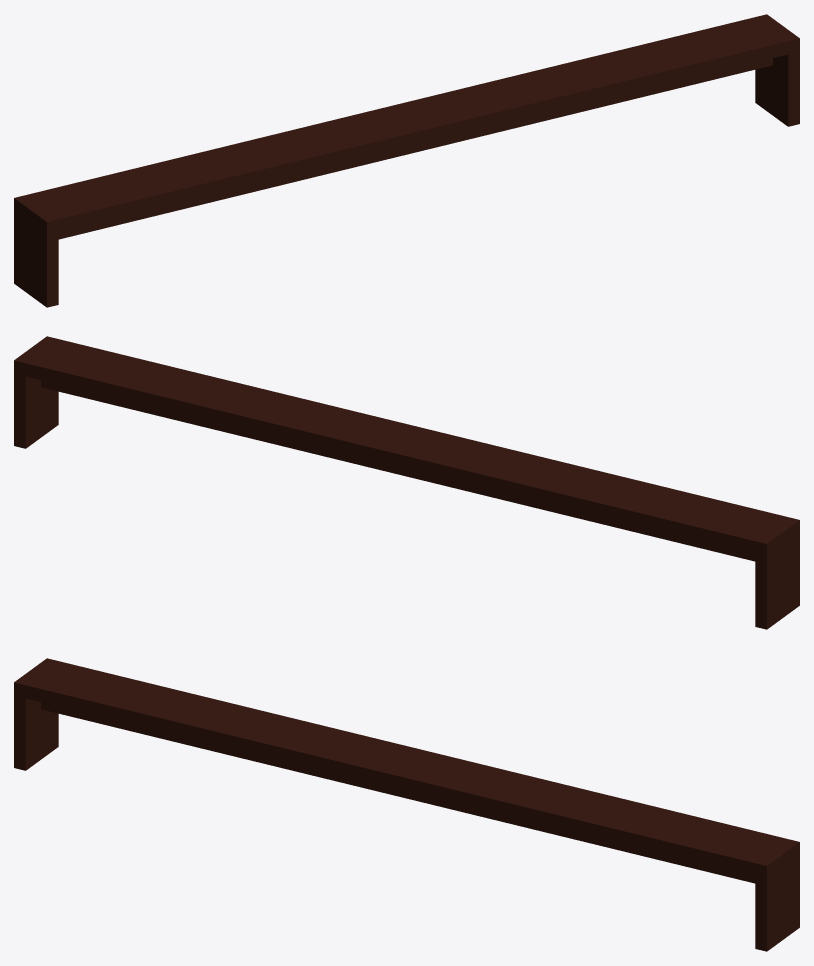
Rendered from BancoLongo.fbx.
3 views of the same model, one above another, from view 1: azimuth 30°, elevation 25°; view 2: azimuth 150°, elevation 25°; view 3: azimuth 330°, elevation 25° (orthographic).
Parts seen in each view (by area): view 1: BancoLongo; view 2: BancoLongo; view 3: BancoLongo.
Part boxes in pixels (bbox=[...]): BancoLongo: bbox=[14, 14, 799, 307]; BancoLongo: bbox=[14, 336, 799, 629]; BancoLongo: bbox=[14, 658, 799, 951].
Size of the model in its own units: 525 by 57.03 by 39.85.
